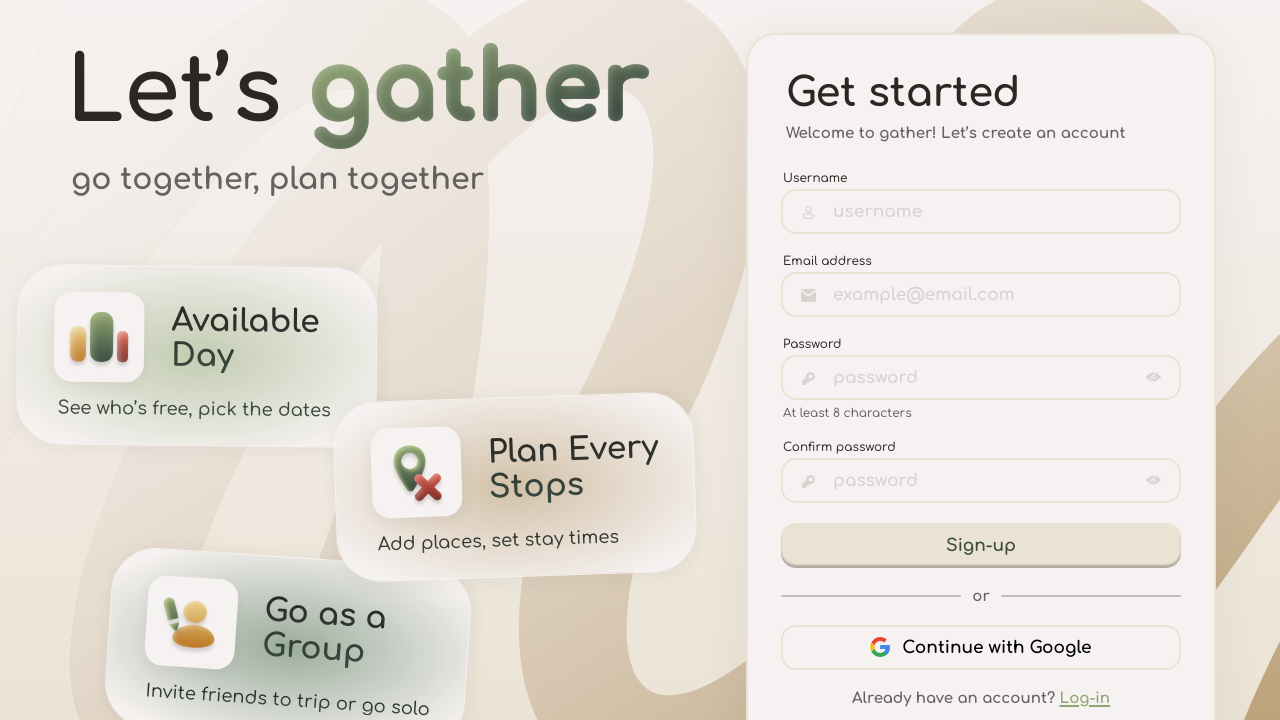
Scenario: Sign-up page › explains Supabase’s built-in email only sending to team addresses
The width and height of the screenshot is (1280, 720).
Type "mild_01" into the field labelled "Username" at [981, 211], box [781,188,1181,234]
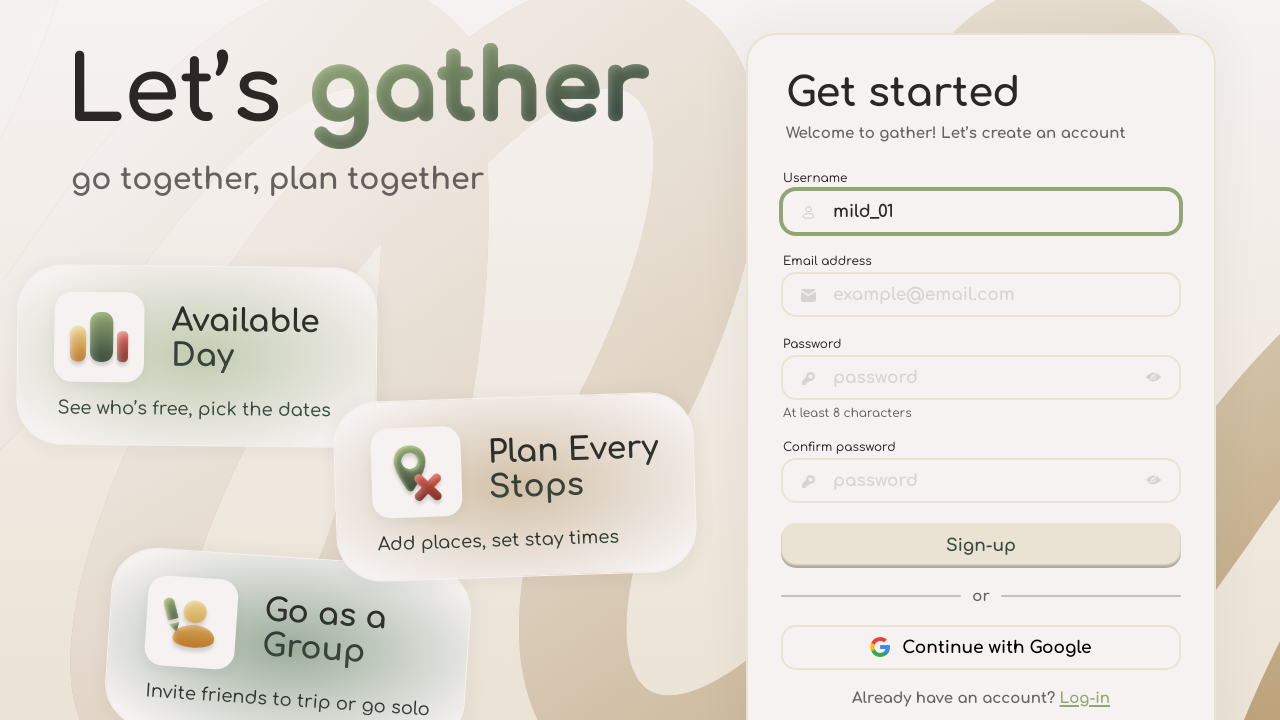
Type "mild@example.com" into the field labelled "Email address" at [981, 294], box [781,272,1181,316]
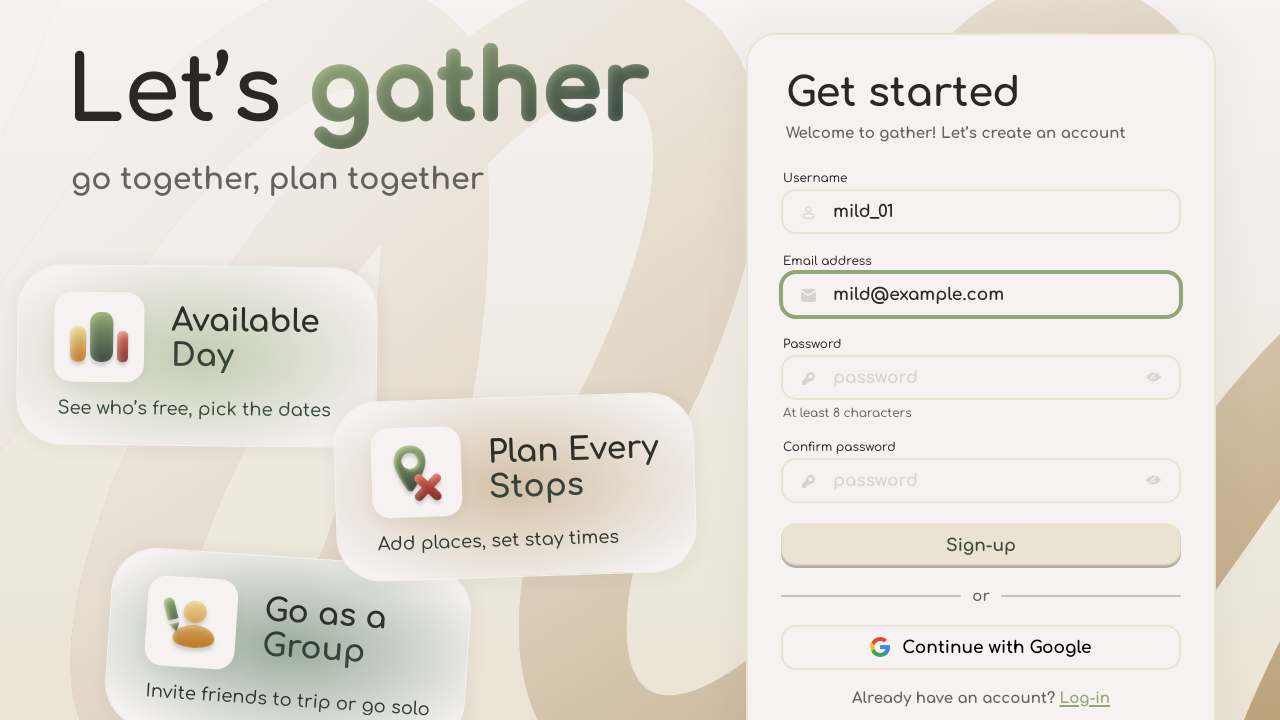
Type "password123" into the password field labelled "Password" at [981, 377], box [781,354,1181,400]
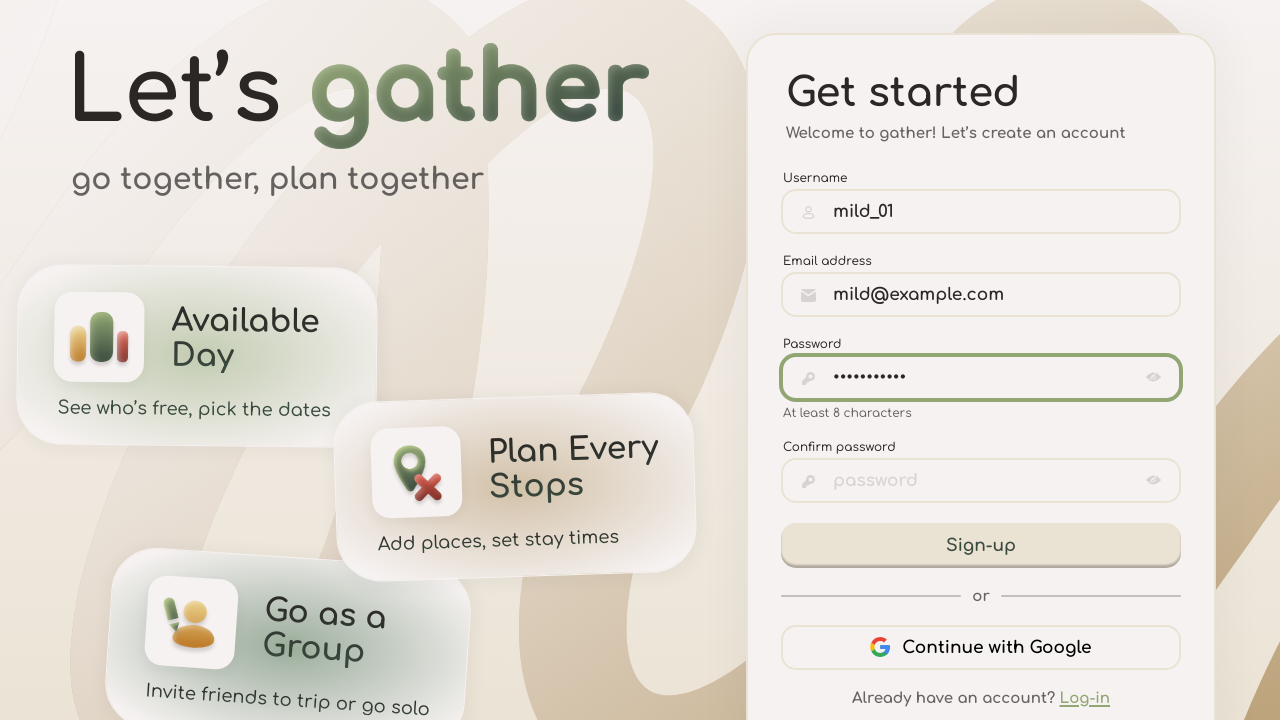
Type "password123" into the password field labelled "Confirm password" at [981, 480], box [781,458,1181,502]
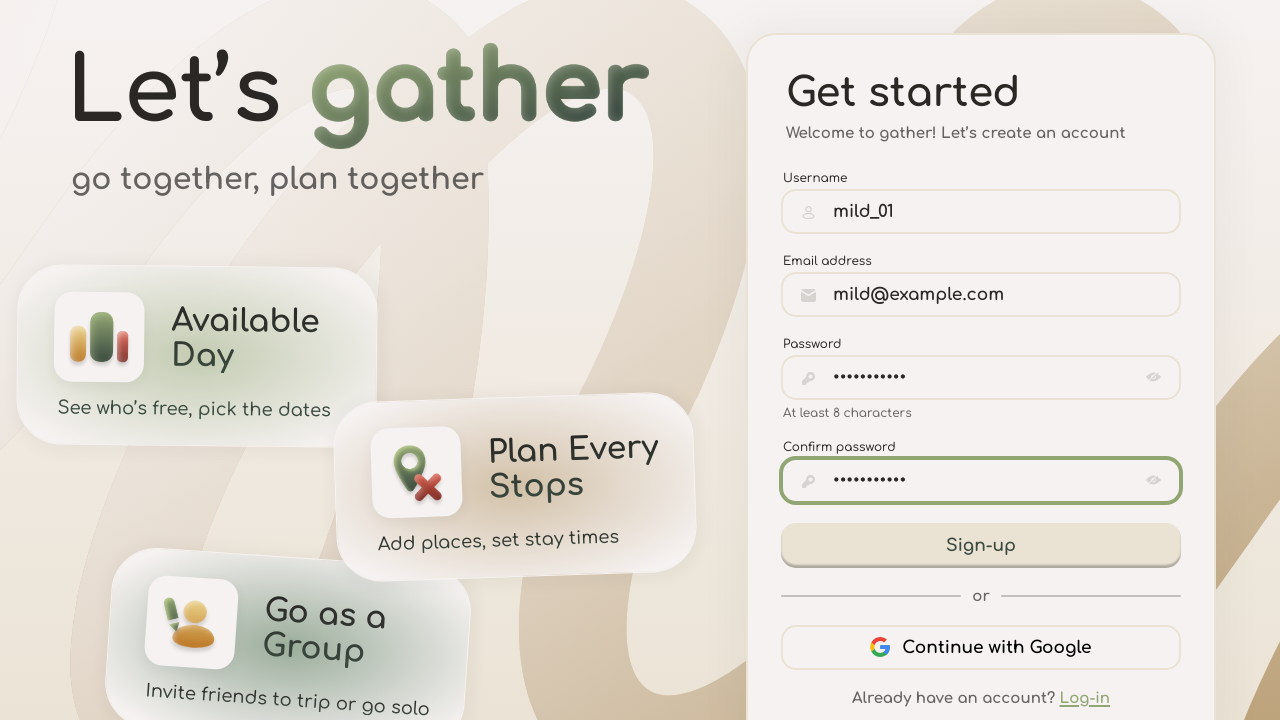
Click the button "Sign-up" at [981, 545], box [781,522,1181,568]
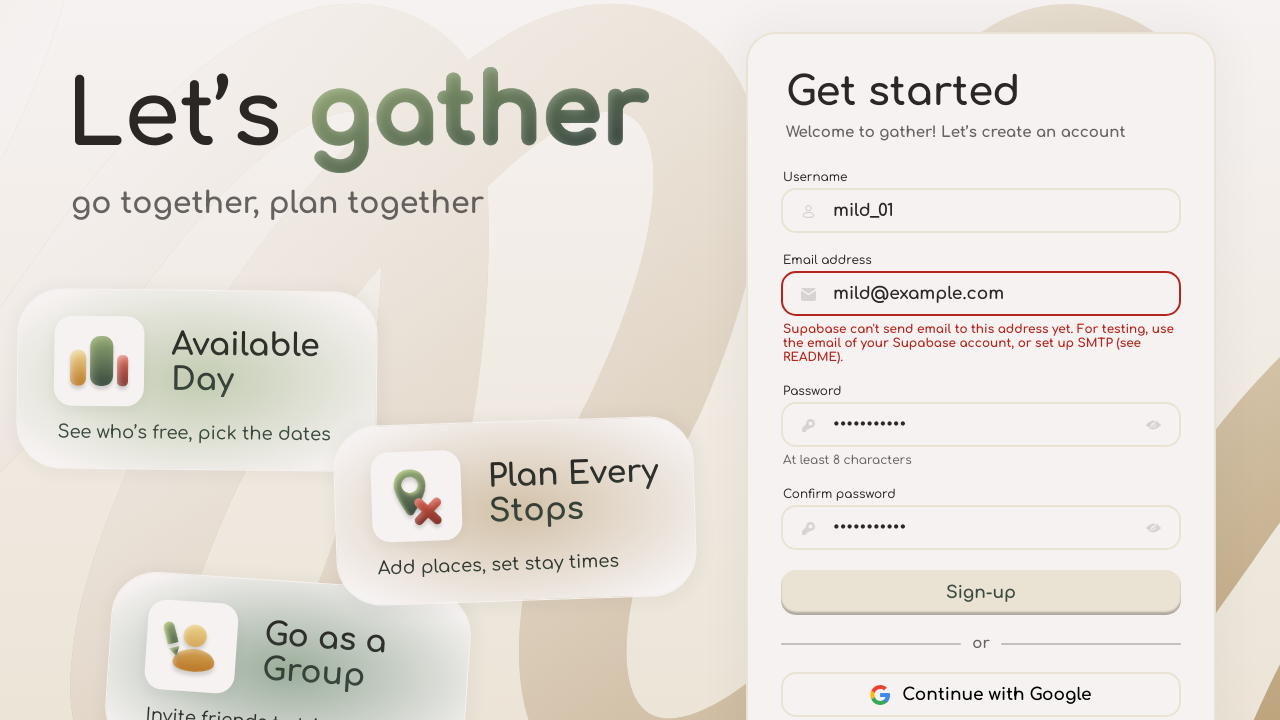
Check: the text "Supabase can't send email to this address yet. For testing, use the email of your Supabase account, or set up SMTP (see " is shown, box [783,322,1174,364]
